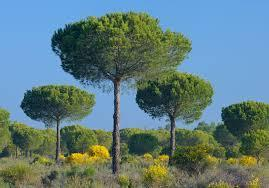tree: (44, 10, 190, 172), (132, 71, 213, 161), (16, 82, 101, 164)
